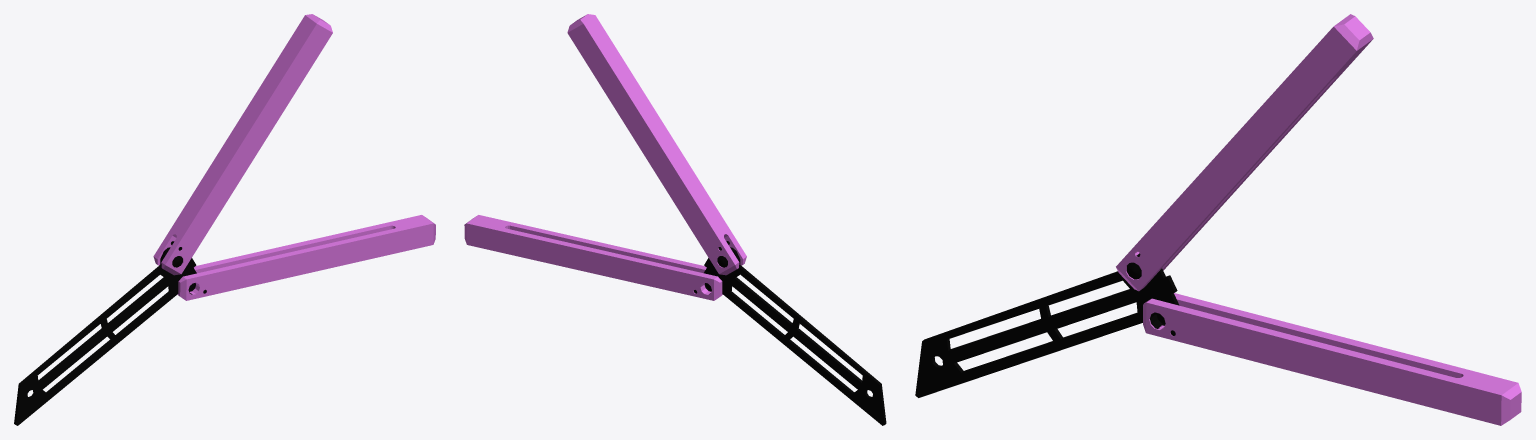
File: butterfly-knife.glb
3 views of the same model, side by side, from view 1: azimuth 30°, elevation 25°; view 2: azimuth 150°, elevation 25°; view 3: azimuth 330°, elevation 25° (orthographic). The views are drawn at different scales.
Visible parts, largest first — view 1: Right Handle, Left Handle, Blade; view 2: Right Handle, Left Handle, Blade; view 3: Left Handle, Right Handle, Blade.
Boxes of the visible parts, x1,y1,x2,y2 form: Right Handle: [153, 14, 332, 275]; Left Handle: [177, 215, 435, 300]; Blade: [14, 247, 196, 425]; Right Handle: [567, 14, 746, 275]; Left Handle: [464, 215, 722, 300]; Blade: [704, 247, 886, 425]; Left Handle: [1143, 293, 1521, 425]; Right Handle: [1116, 14, 1373, 291]; Blade: [915, 268, 1179, 397].
Bounding box in the file's own units: 3.16 × 2.43 × 0.165.
